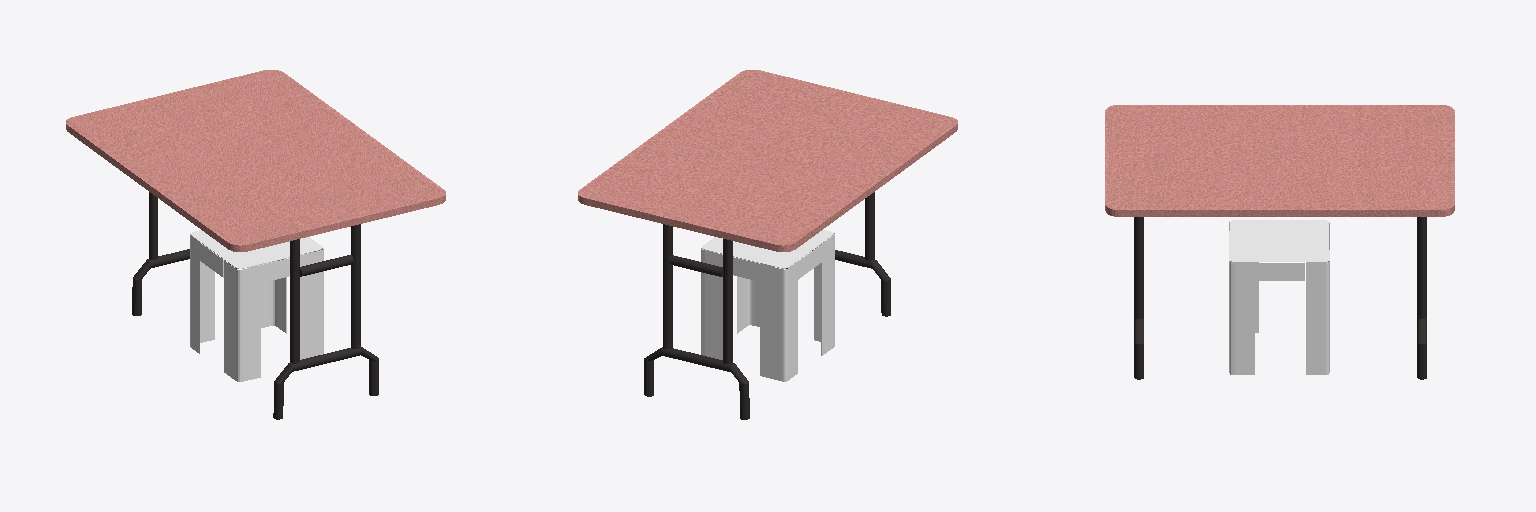
3 views of the same model, side by side, from view 1: azimuth 30°, elevation 25°; view 2: azimuth 150°, elevation 25°; view 3: azimuth 270°, elevation 25° (orthographic).
Visible parts, largest first — view 1: Box001, Box003, Box005, Box004, Box002, Cylinder001, Box006, Cylinder002, Cylinder003, Cylinder005, Cylinder006, Cylinder004 (+1 smaller); view 2: Box001, Box004, Box006, Box003, Box002, Cylinder005, Cylinder006, Cylinder007, Box005, Cylinder001, Cylinder002, Cylinder008; view 3: Box001, Box002, Box005, Box006, Cylinder003, Cylinder007, Box008, Cylinder001, Cylinder005.
Part boxes in pixels (left/top/right/bottom): Box001: left=66, top=70, right=445, bottom=251; Box003: left=224, top=260, right=260, bottom=381; Box005: left=300, top=247, right=323, bottom=359; Box004: left=190, top=233, right=214, bottom=353; Box002: left=191, top=230, right=321, bottom=268; Cylinder001: left=273, top=347, right=378, bottom=419; Box006: left=249, top=258, right=286, bottom=333; Cylinder002: left=290, top=239, right=299, bottom=363; Cylinder003: left=351, top=224, right=360, bottom=348; Cylinder005: left=132, top=249, right=236, bottom=315; Cylinder006: left=149, top=192, right=157, bottom=259; Cylinder004: left=300, top=255, right=353, bottom=276; Box001: left=578, top=70, right=957, bottom=251; Box004: left=760, top=261, right=797, bottom=381; Box006: left=701, top=248, right=722, bottom=359; Box003: left=814, top=233, right=834, bottom=355; Box002: left=702, top=230, right=833, bottom=268; Cylinder005: left=644, top=347, right=749, bottom=419; Cylinder006: left=723, top=239, right=732, bottom=363; Cylinder007: left=663, top=224, right=672, bottom=349; Box005: left=737, top=258, right=772, bottom=333; Cylinder001: left=786, top=250, right=890, bottom=316; Cylinder002: left=865, top=192, right=874, bottom=260; Cylinder008: left=669, top=255, right=722, bottom=276; Box001: left=1105, top=105, right=1454, bottom=216; Box002: left=1230, top=220, right=1328, bottom=261; Box005: left=1229, top=250, right=1254, bottom=374; Box006: left=1306, top=250, right=1329, bottom=374; Cylinder003: left=1134, top=217, right=1143, bottom=318; Cylinder007: left=1417, top=217, right=1426, bottom=318; Box008: left=1255, top=263, right=1304, bottom=280; Cylinder001: left=1134, top=317, right=1143, bottom=379; Cylinder005: left=1417, top=317, right=1426, bottom=379.
Bounding box in the file's own units: 50 × 43.52 × 70.
Materials: 3 (3 with a texture image).